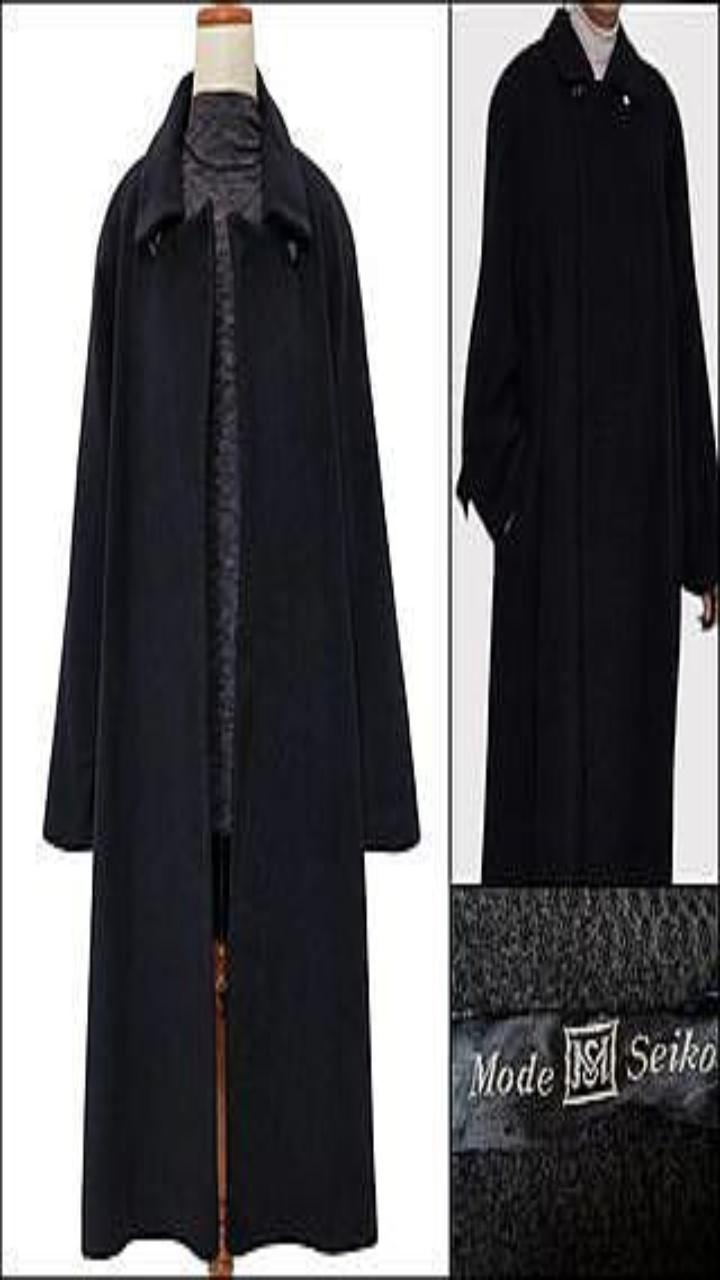Coat: (458, 9, 717, 884), (44, 76, 217, 1258)
